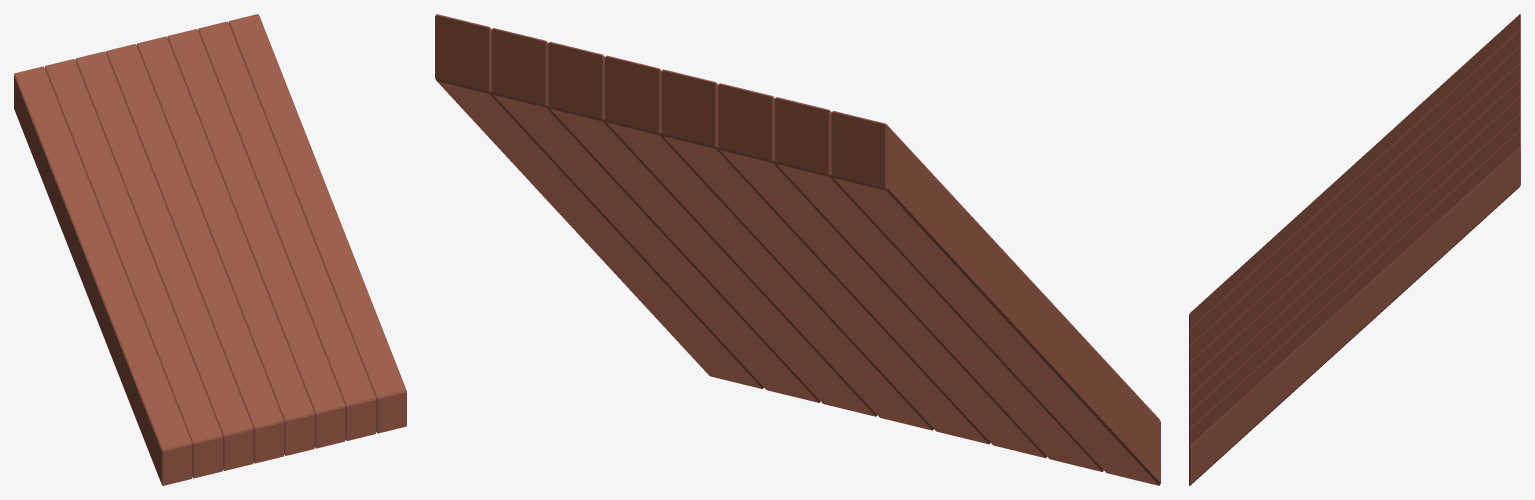
File: SM_Roof_45.fbx
The picture shows the model from 3 angles, left to right: view 1: azimuth 30°, elevation 25°; view 2: azimuth 150°, elevation 25°; view 3: azimuth 270°, elevation 25°; orthographic projection. The views are drawn at different scales.
Visible parts, largest first — view 1: SM_Roof_45; view 2: SM_Roof_45; view 3: SM_Roof_45.
Boxes of the visible parts, x1,y1,x2,y2 form: SM_Roof_45: (14, 14, 406, 485); SM_Roof_45: (435, 14, 1160, 485); SM_Roof_45: (1189, 14, 1520, 485).
Size of the model in its own units: 2 by 2.37 by 2.1.
